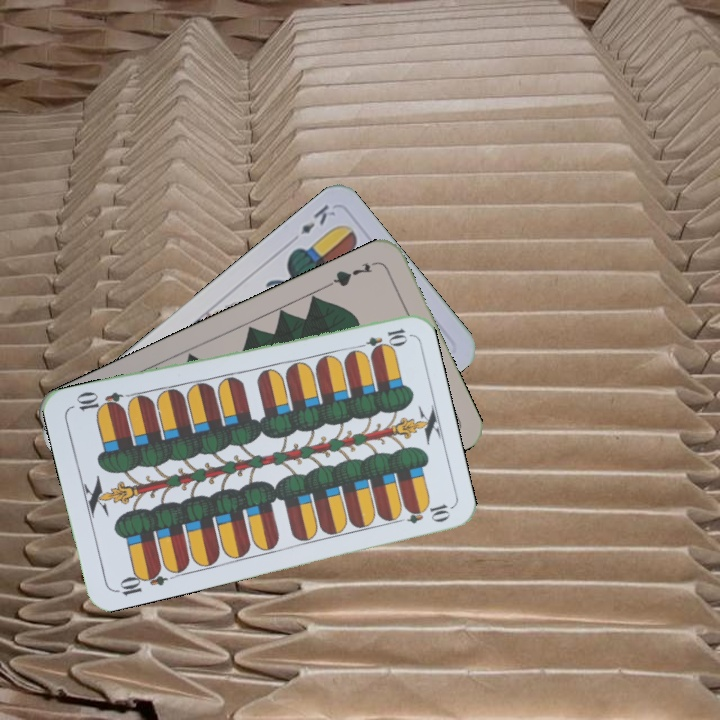E10: (111, 563, 169, 598), (351, 324, 410, 354)
EK: (296, 200, 338, 237)
G7: (324, 257, 380, 290)
